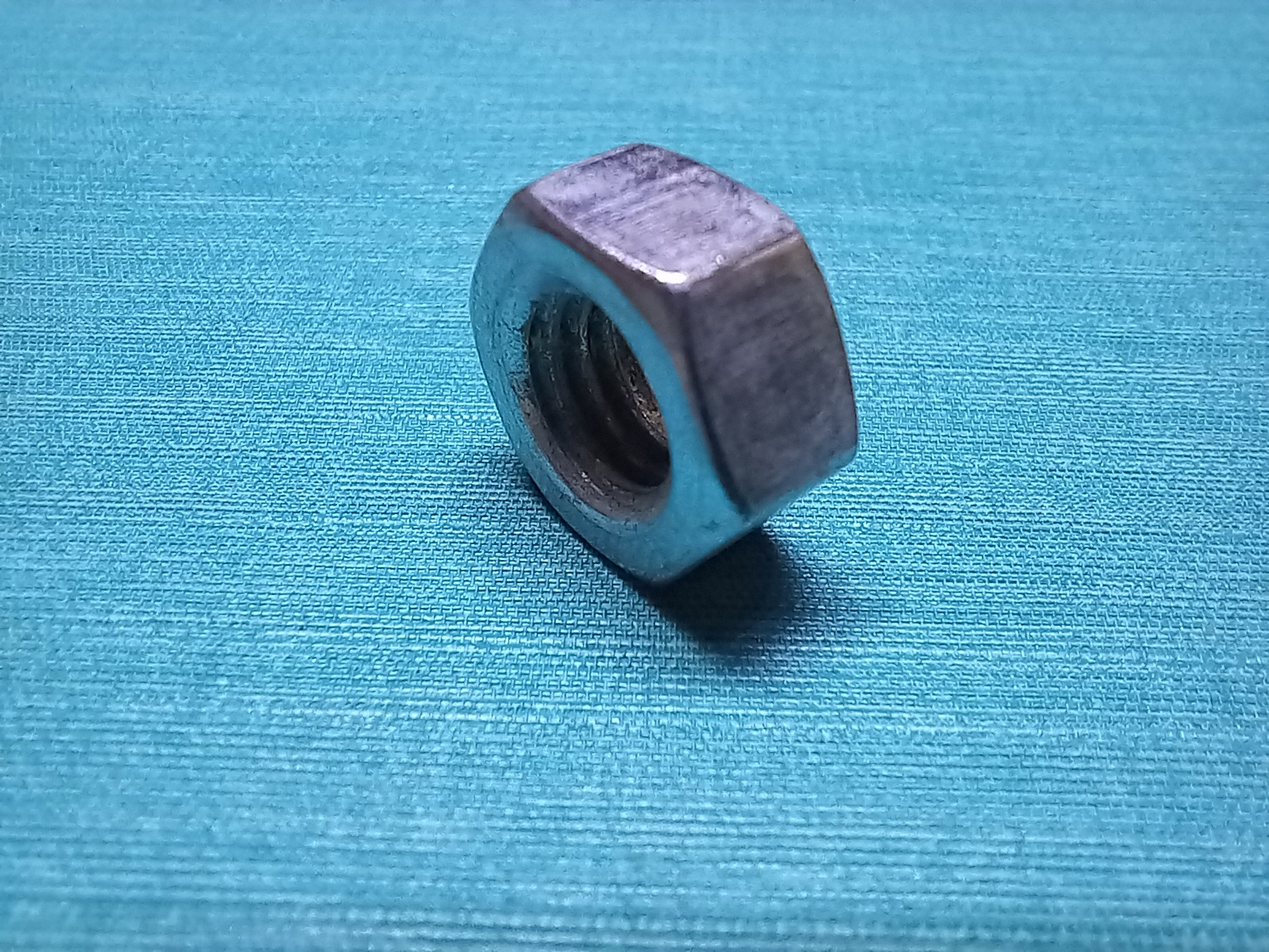nut: (206, 123, 977, 762)
